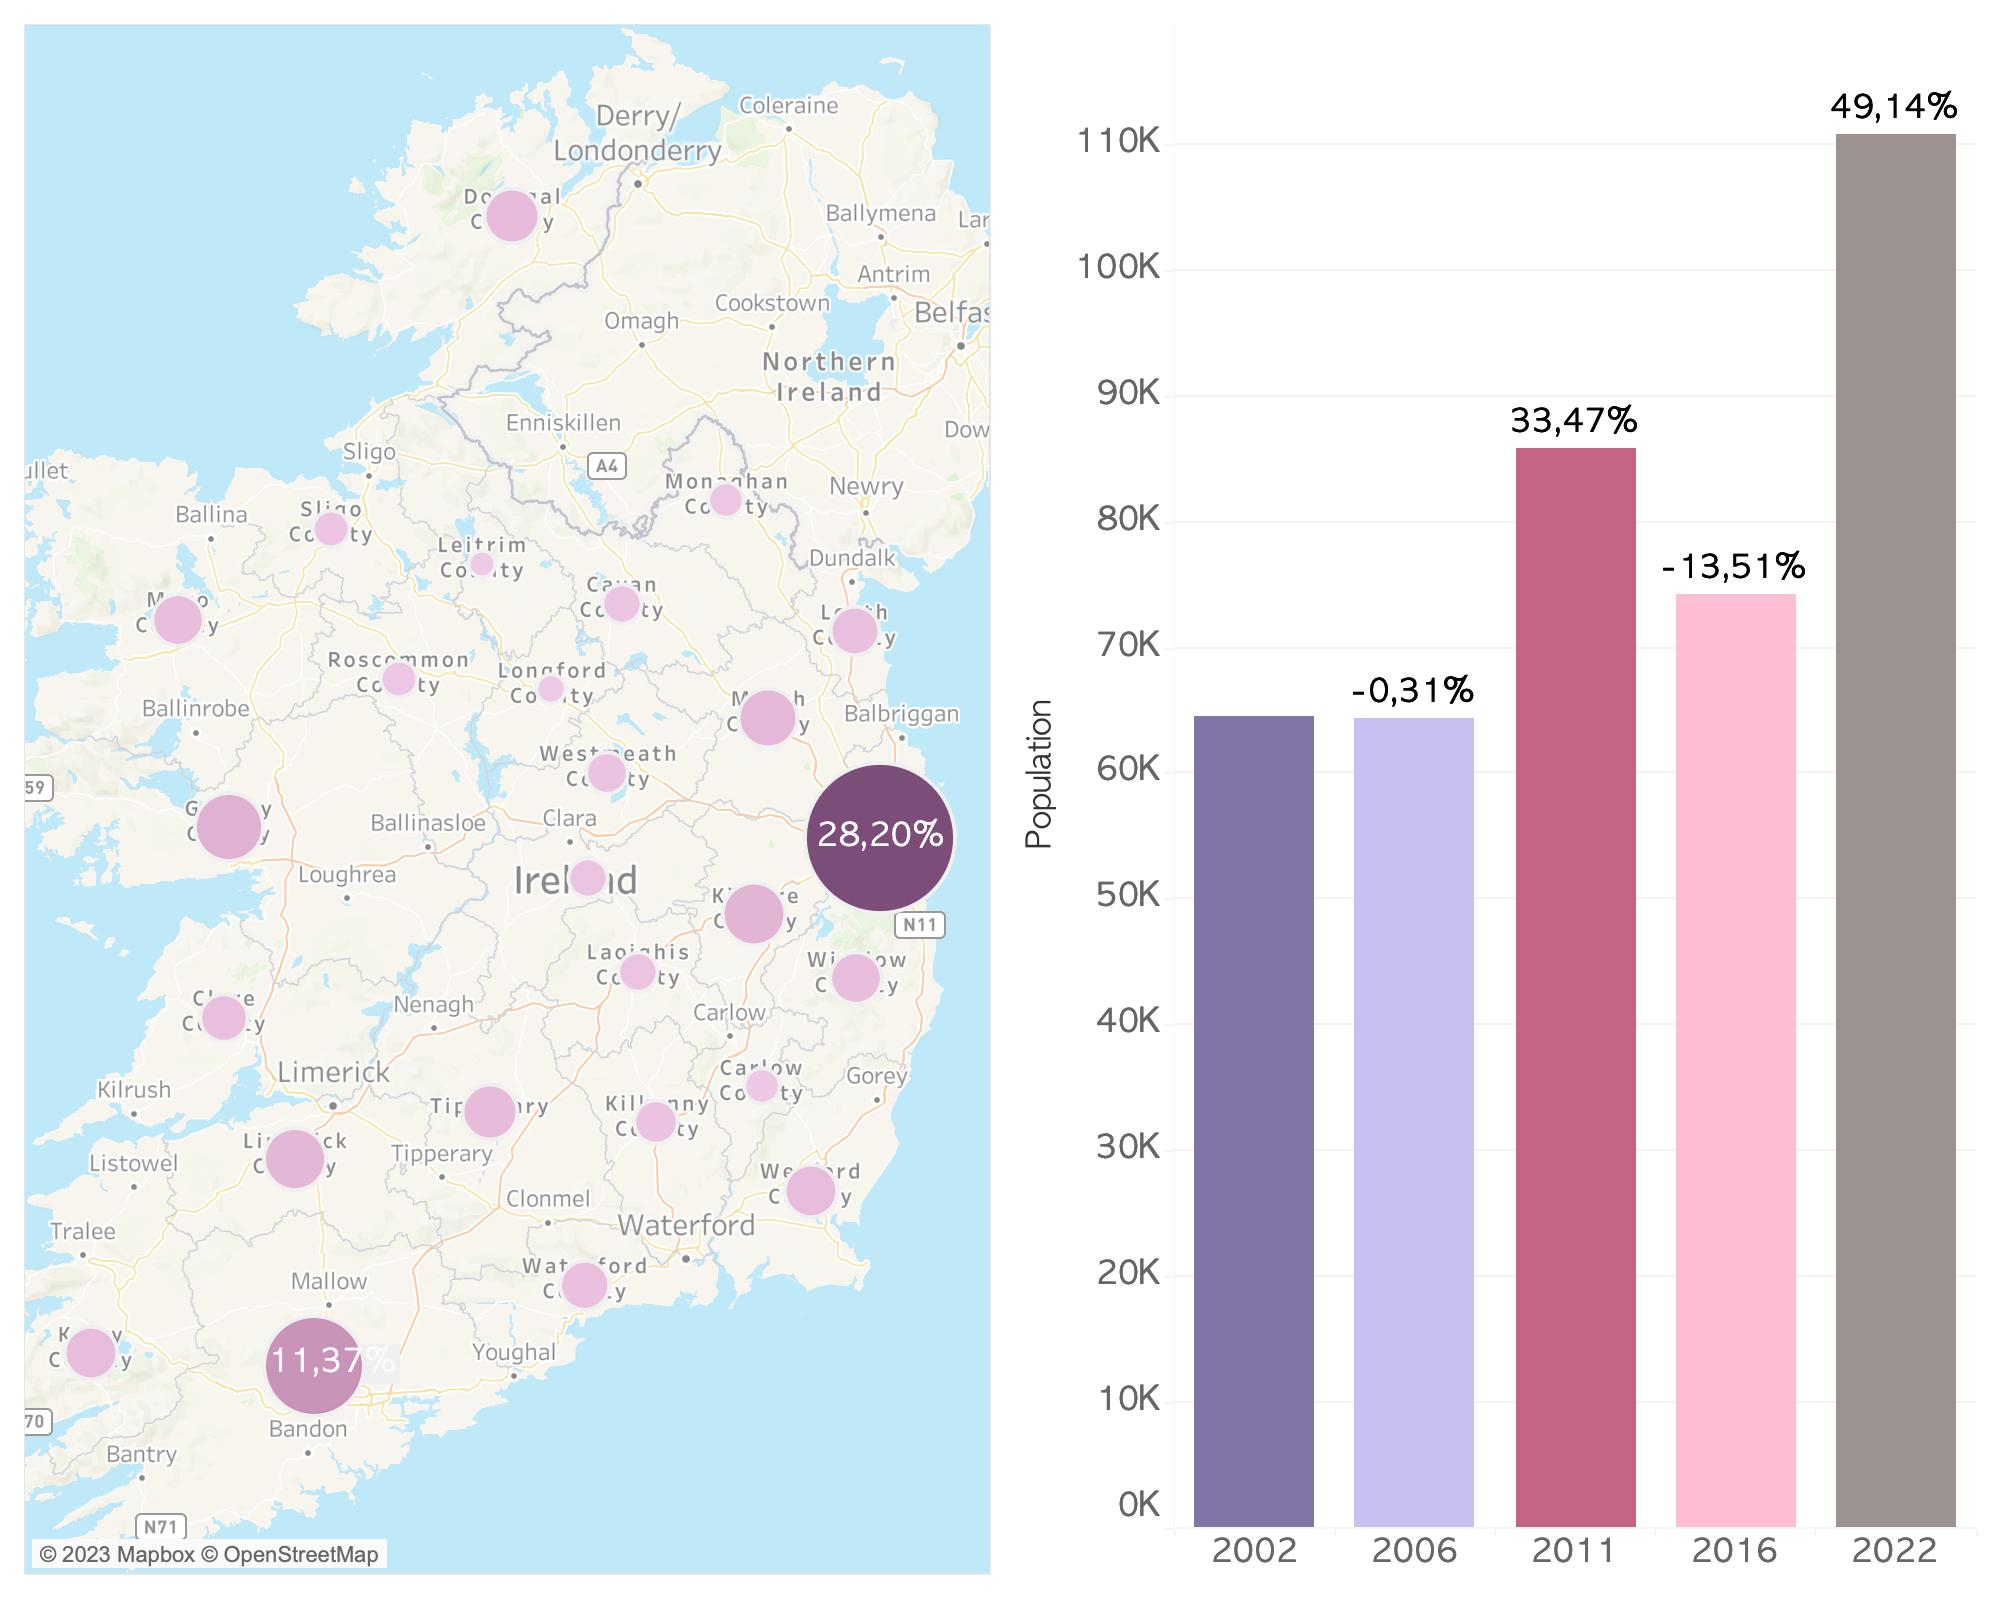

The page's visual inventory and layout, read from the dashboard file:
{"tool":"tableau","page":{"name":"Population","canvas":[1000,800],"ordinal":0},"visuals":[{"type":"worksheet","title":"Dublin Population as Percentage of State","mark":"Automatic","box":[8,8,492,784]},{"type":"worksheet","title":"Dublin Population Change","mark":"Bar","rows":["population"],"cols":["year (pop_percentage_change_dublin.csv)"],"box":[500,8,492,784]}]}

Visuals, with their boxes in screenshot pixels (x1, y1, x2, y2), scaled from the page's 1000x800 canvas onto the 2000x1600 screenshot:
"Dublin Population as Percentage of State" worksheet: x1=16 y1=16 x2=1000 y2=1584
"Dublin Population Change" worksheet (Bar marks): x1=1000 y1=16 x2=1984 y2=1584
